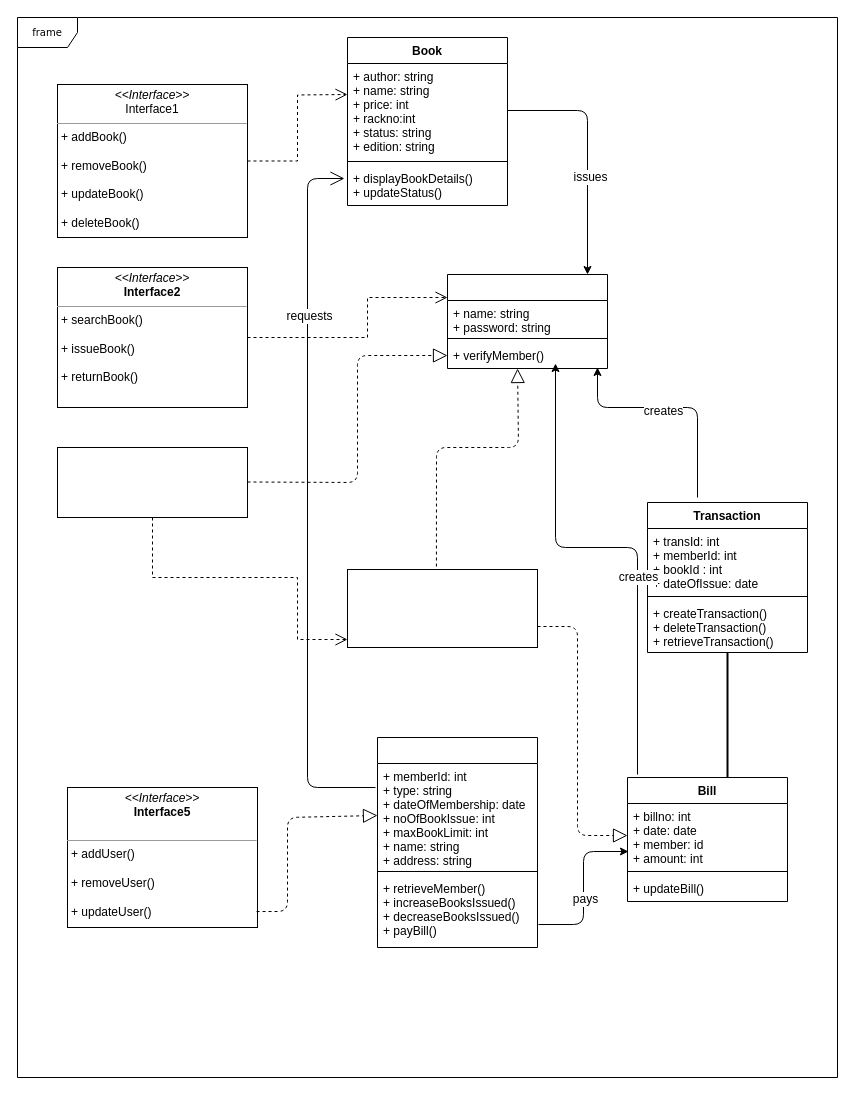
This 855x1095 diagram has some shape labels left out. The shapes that lost their labels are listed below. From the top down, each one's box as (x1, y1, x2, y2) in pixels, then its label:
(446, 274, 608, 368): Librarian
(56, 446, 248, 518): <<Interface>> Interface3 + calculateFine()
(346, 568, 538, 648): <<Interface>> Interface4 + createBill()
(376, 736, 538, 948): MemberRecords
